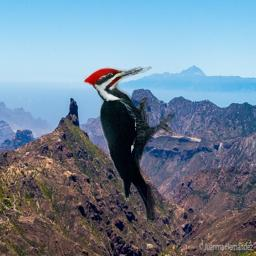Woodpecker: (84, 64, 175, 220)
